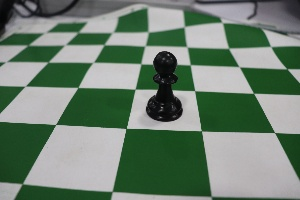black_pawn: (142, 43, 190, 124)
